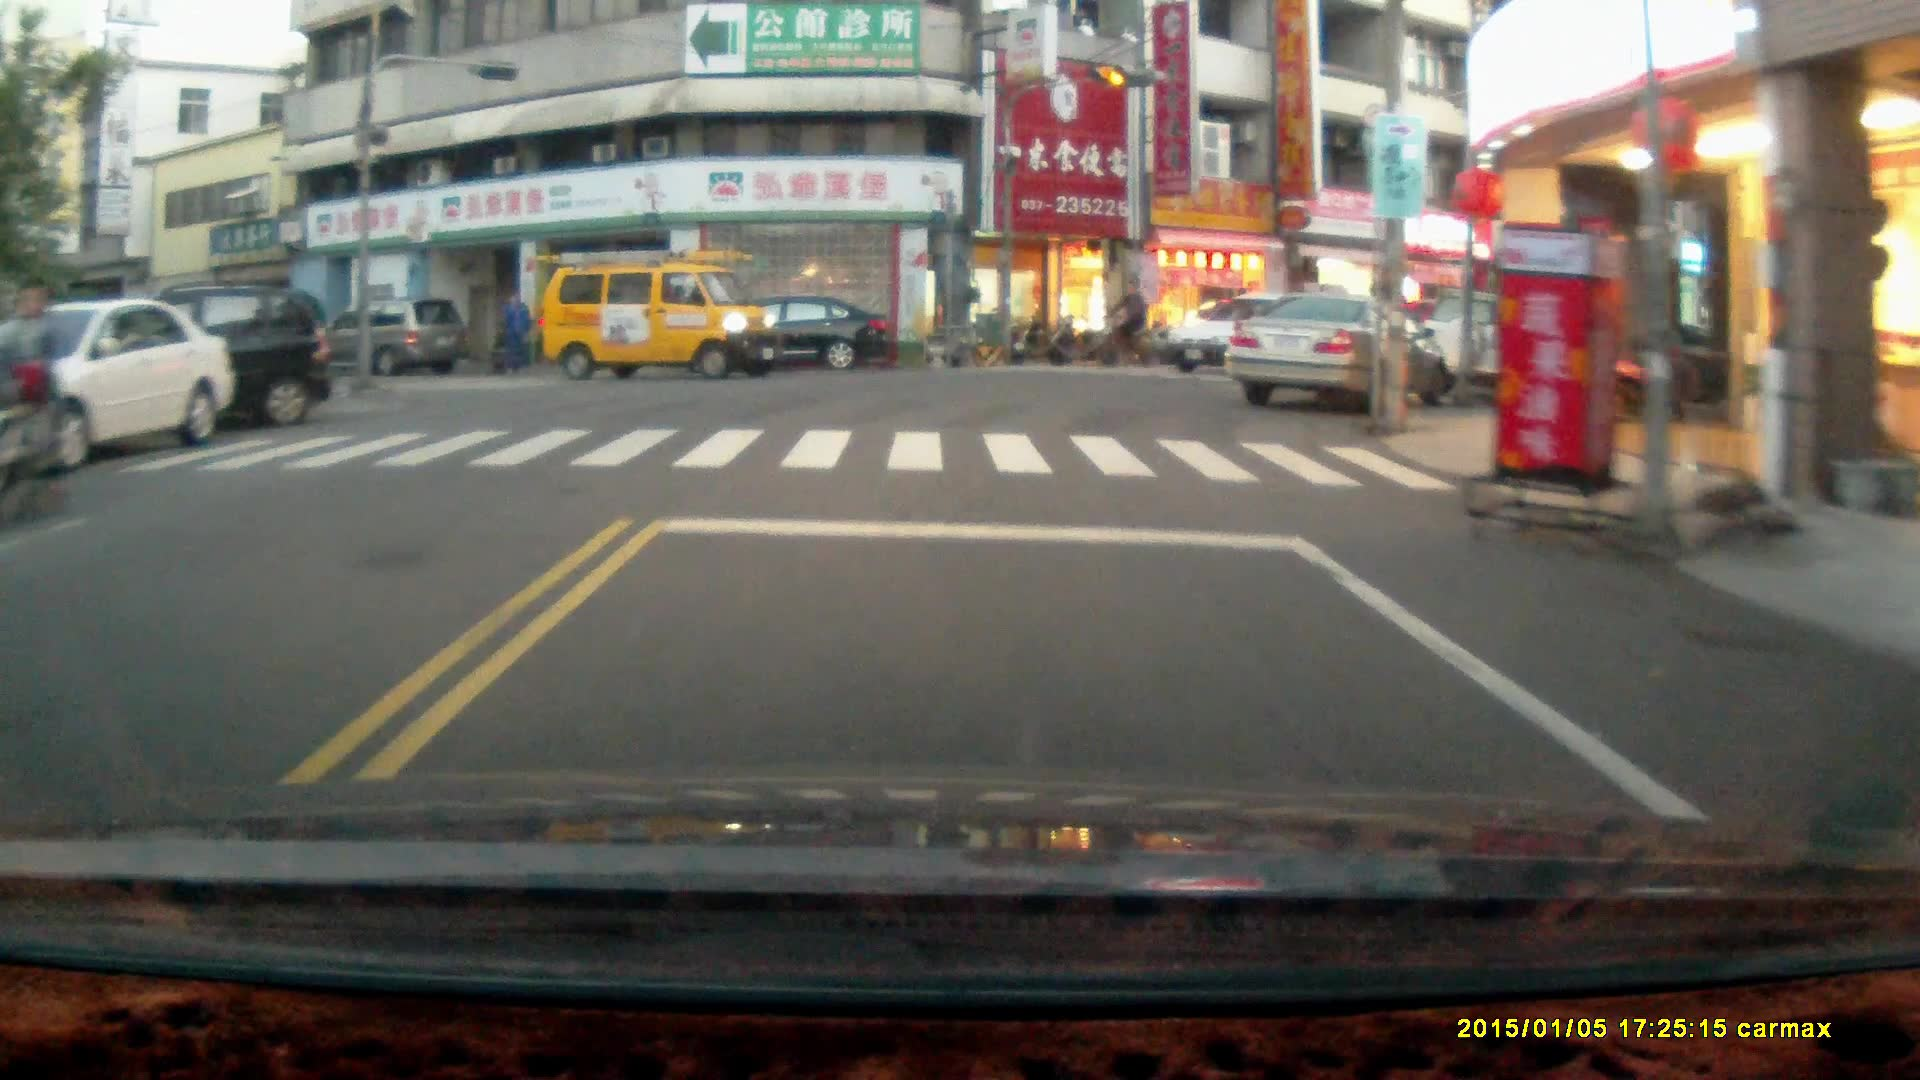pedestrian: (0, 278, 57, 491), (498, 287, 529, 370)
rider: (1083, 275, 1154, 367)
vehicle: (33, 276, 328, 431), (1, 296, 239, 476), (533, 247, 780, 385), (1221, 287, 1453, 407), (1409, 284, 1632, 400), (1153, 285, 1362, 378), (708, 291, 890, 371), (310, 294, 465, 383)
